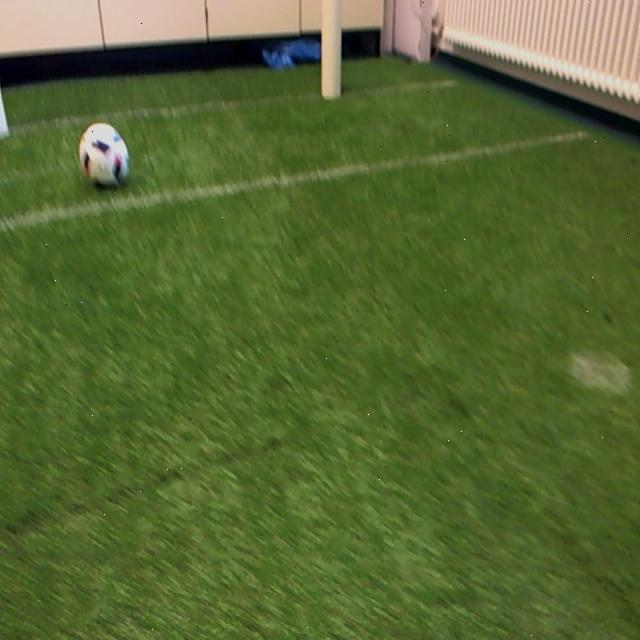ball: (79, 121, 129, 189)
goalpost: (321, 2, 344, 95)
